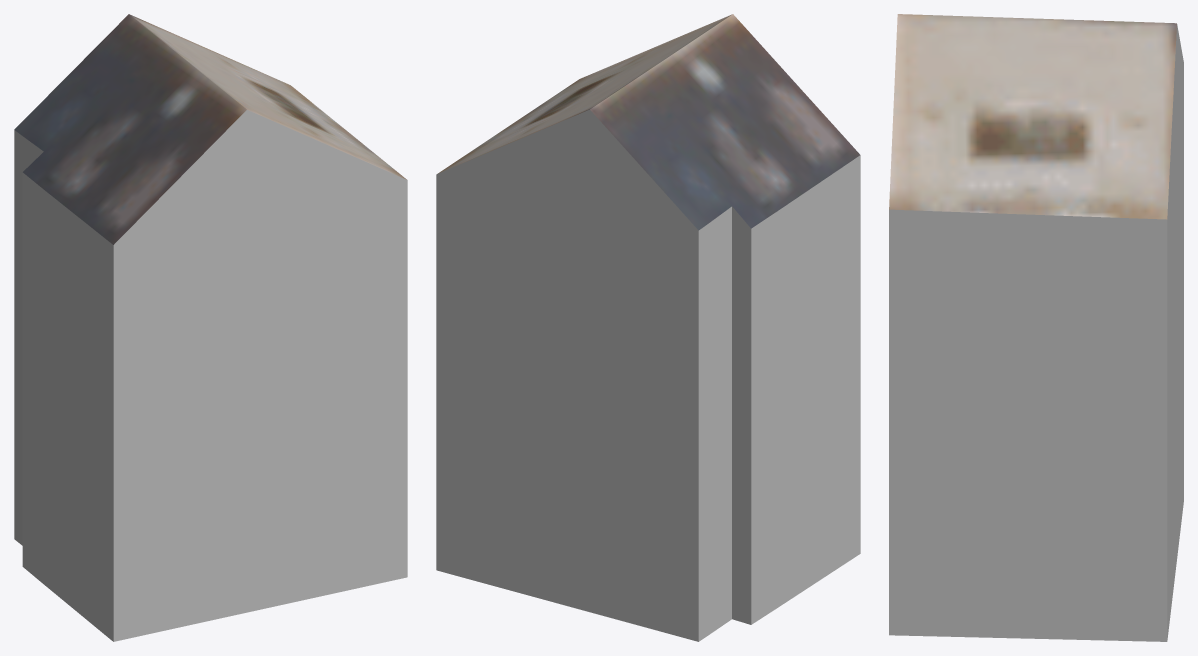
The model's file is DEBW_0010007TvjI.gltf.
3 renders of one model, left to right at view 1: azimuth 30°, elevation 25°; view 2: azimuth 150°, elevation 25°; view 3: azimuth 270°, elevation 25°, orthographic. The views are drawn at different scales.
Parts seen in each view (by area): view 1: Z_UP; view 2: Z_UP; view 3: Z_UP.
Boxes of the visible parts, left/top/right/bottom form: Z_UP: left=14, top=14, right=407, bottom=641; Z_UP: left=436, top=14, right=860, bottom=641; Z_UP: left=889, top=14, right=1183, bottom=641.
Size of the model in its own units: 12.04 by 19.31 by 9.57.
Materials: 2 (1 with a texture image).
